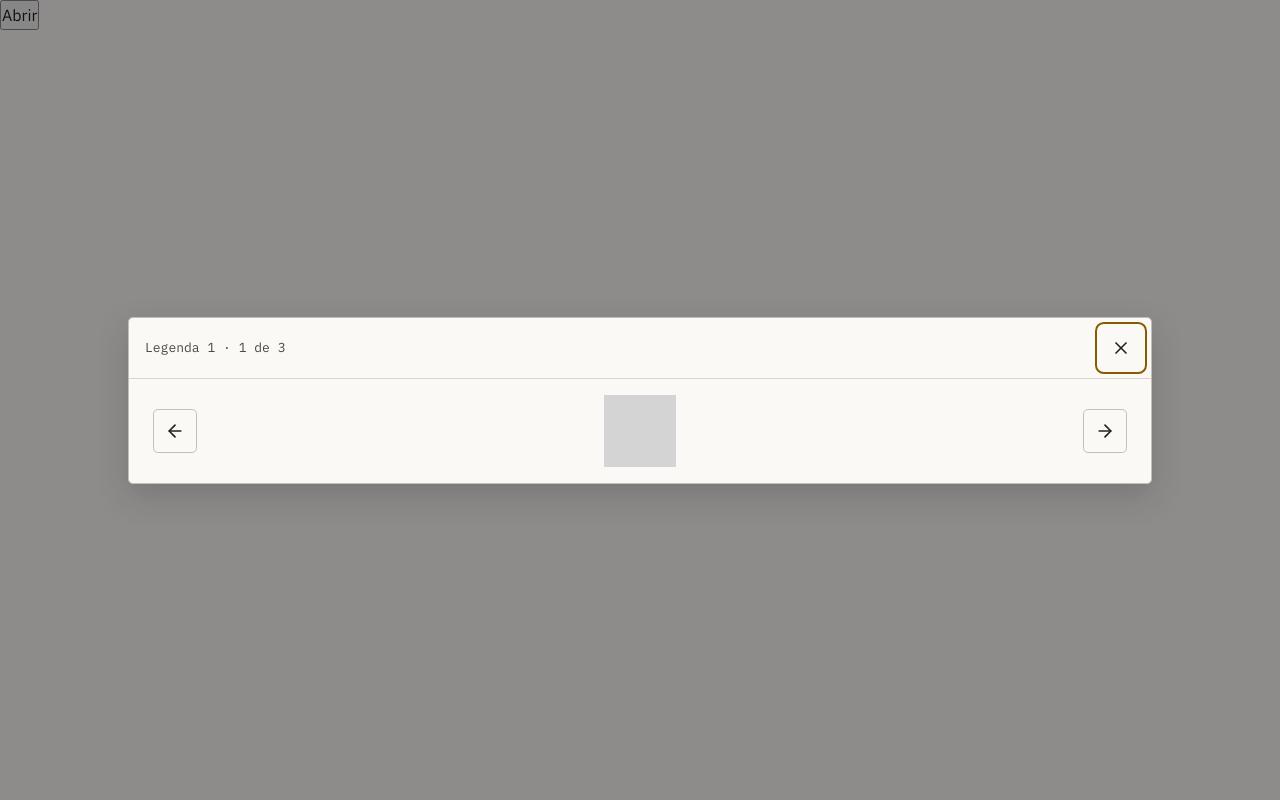
Lightbox › com várias, mostra legenda · N de M numa região aria-live e atualiza ao trocar
Step 1. Click the button named "Próxima imagem" → click(1105, 430), box [1083,408,1127,452]
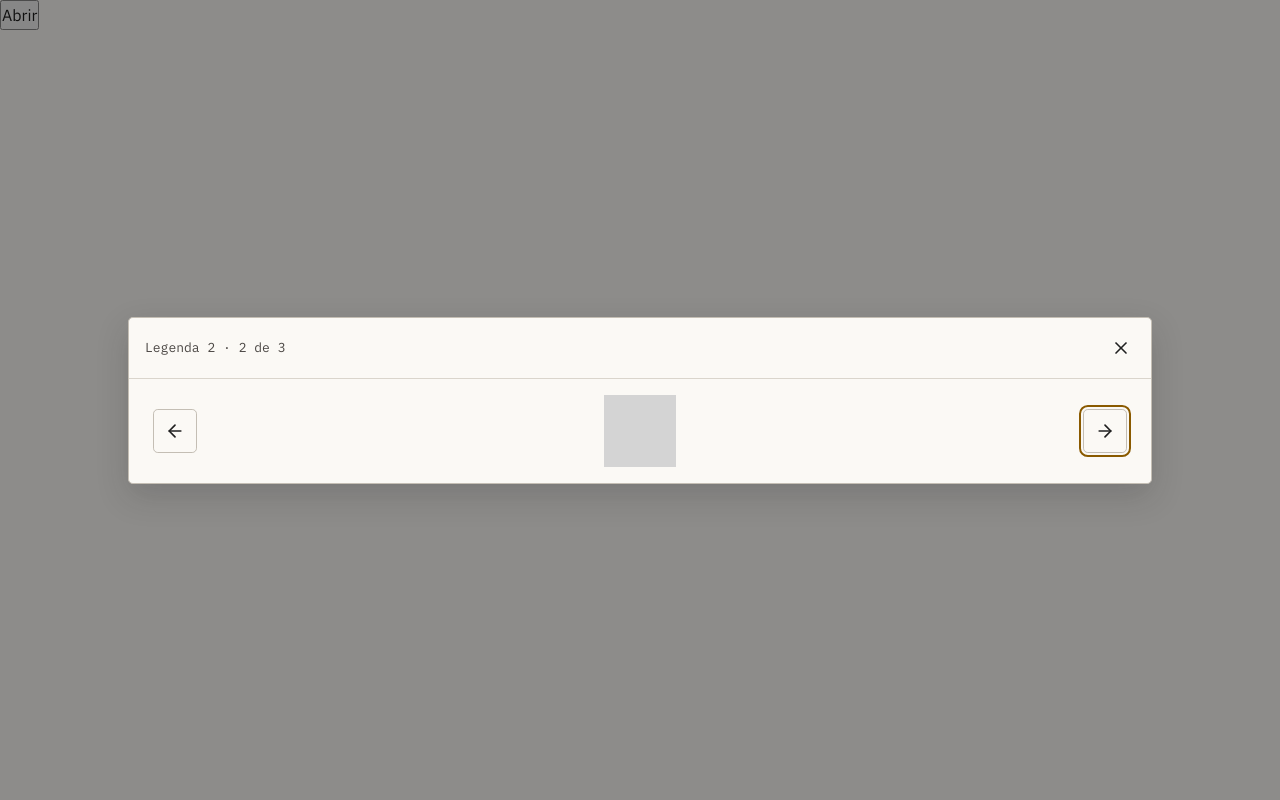
Result: the element showing "Legenda 2 · 2 de 3" is shown at [145,337,286,358]
